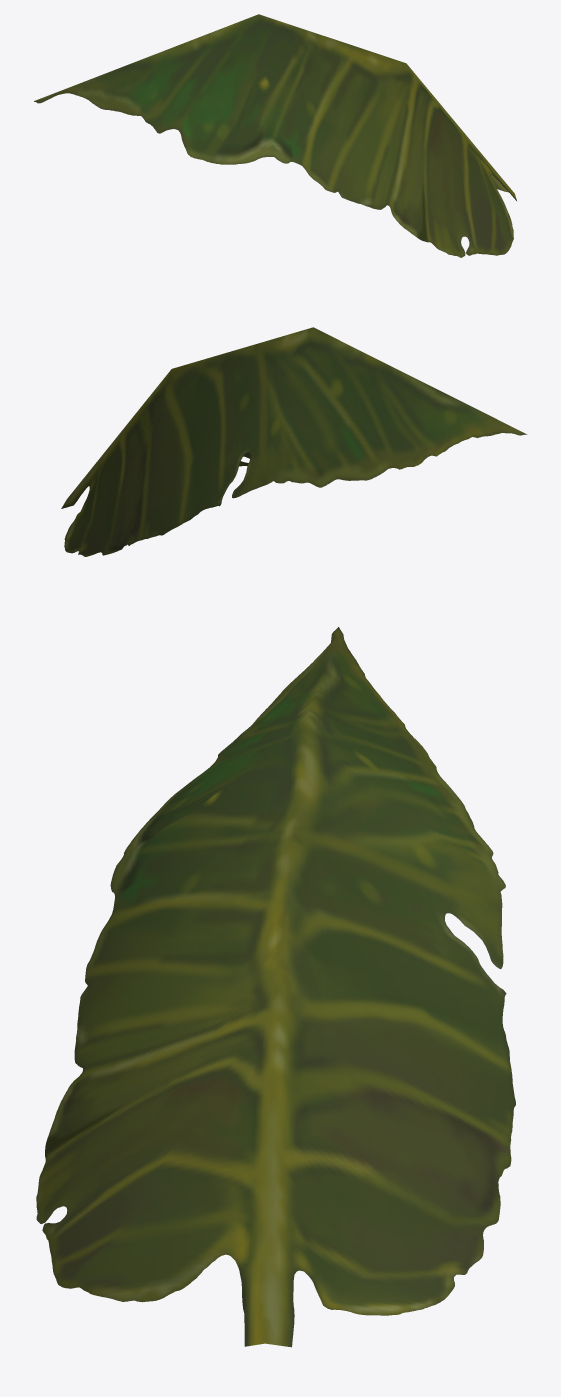
The model's file is Wetlands_Leaf_03.fbx.
The picture shows the model from 3 angles, top to bottom: view 1: azimuth 30°, elevation 25°; view 2: azimuth 150°, elevation 25°; view 3: azimuth 270°, elevation 25°; orthographic projection. The views are drawn at different scales.
Parts seen in each view (by area): view 1: Wetlands_Leaf_03; view 2: Wetlands_Leaf_03; view 3: Wetlands_Leaf_03.
Part boxes in pixels (x1,y1,x2,y2): Wetlands_Leaf_03: (34, 14, 516, 257); Wetlands_Leaf_03: (61, 327, 527, 556); Wetlands_Leaf_03: (36, 627, 515, 1347).
Size of the model in its own units: 1.79 by 0.978 by 0.9954.
1 material, 1 textured.
